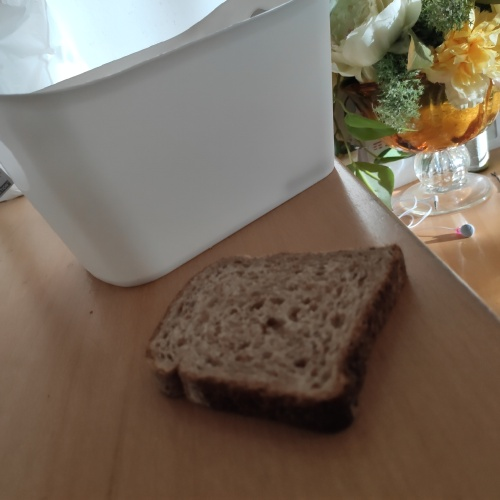pane: (136, 239, 418, 423)
